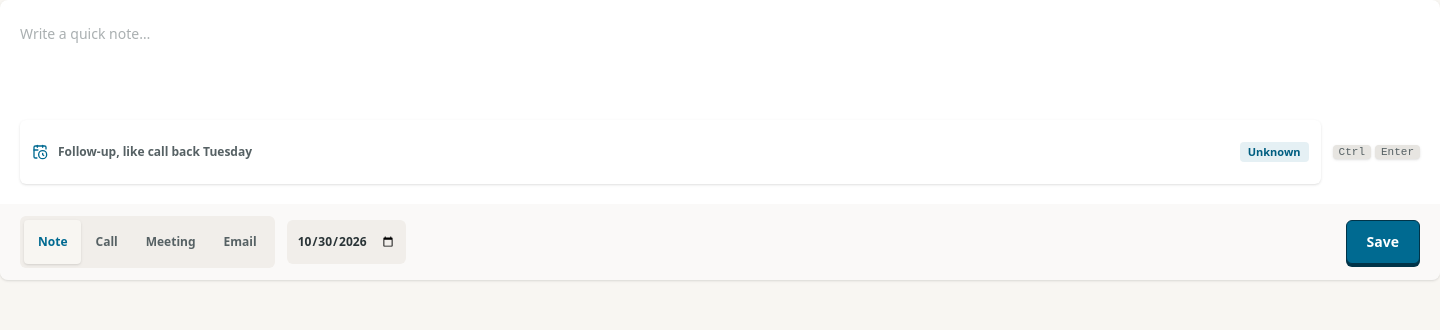
the controls › keeps Save enabled, and an empty Save says what is missing and sends nothing
Click the button "Save".
click(1383, 242)  # box 1346,220 -> 1420,264
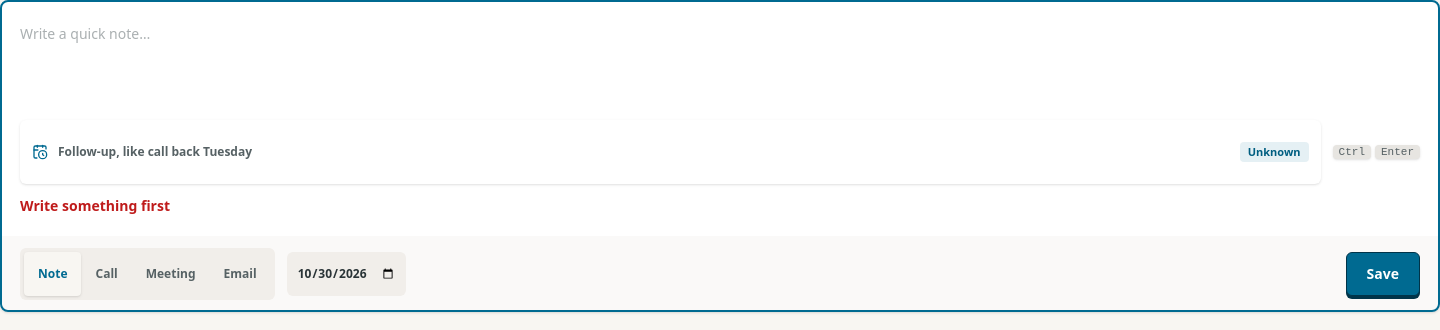
Now the message reads "Write something first", box 20,196 -> 170,215
⌘ Enter from the editor takes the same path.
Press Enter in the field named "Note", box 20,24 -> 1420,104
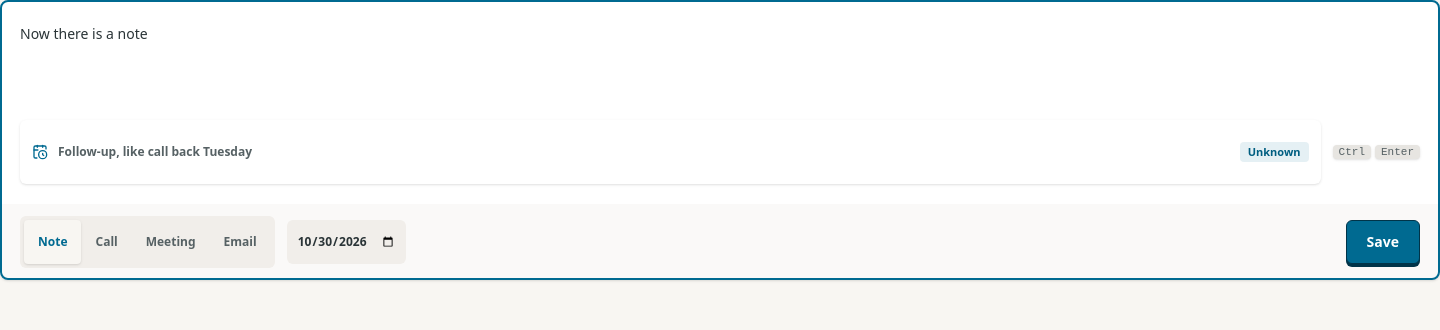
Now the field labelled "Now there is a note" is shown, box 20,24 -> 148,43
Now the message "Write something first" is gone
